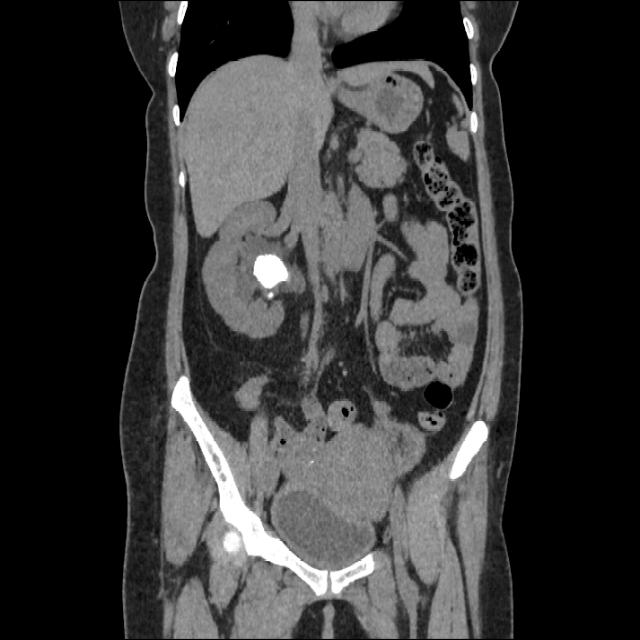kidney: (203, 201, 304, 339)
stone: (253, 252, 290, 290), (266, 292, 276, 299)
